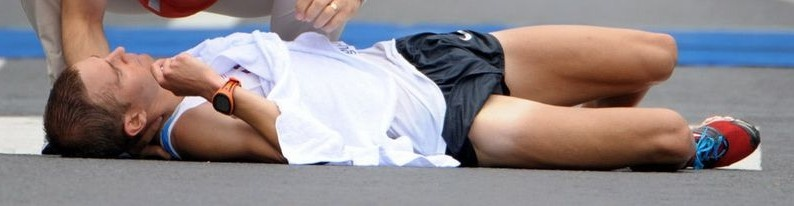falling: (4, 7, 794, 176)
